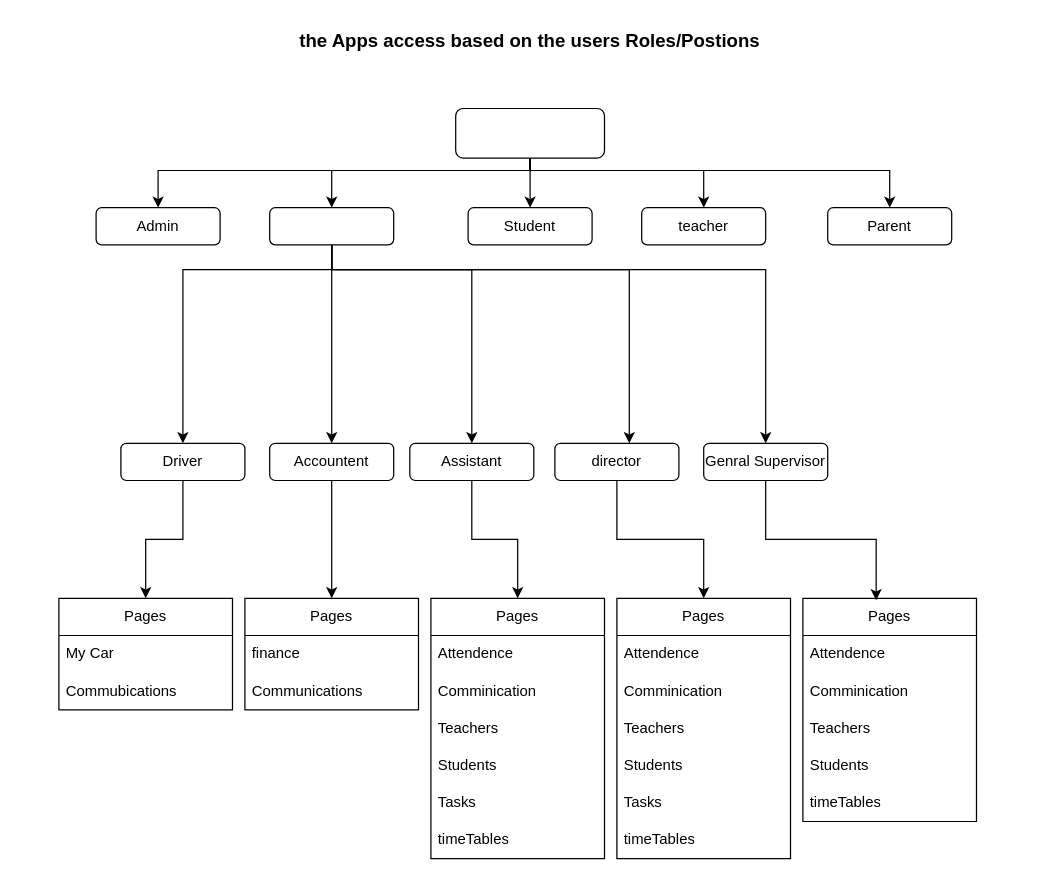
This 1059x880 diagram has some shape labels left out. Each missing label, with the centre of its shape:
"Staff" goes at (x=331, y=225).
"User" goes at (x=529, y=132).
